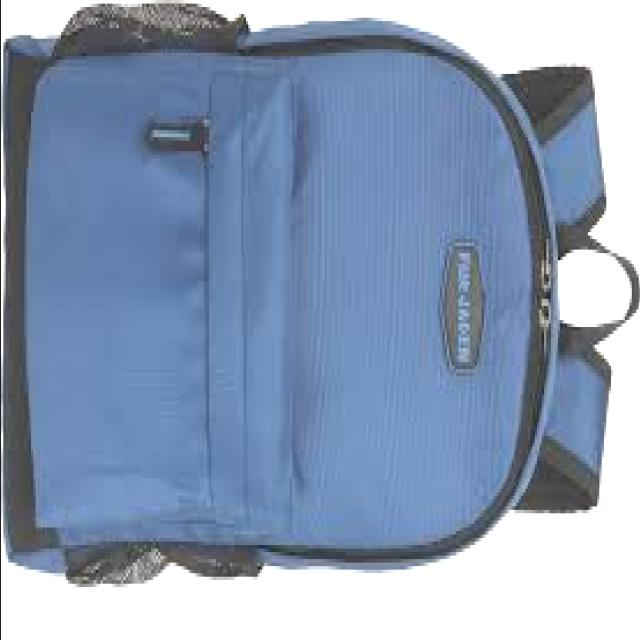backpack: (4, 1, 640, 588)
